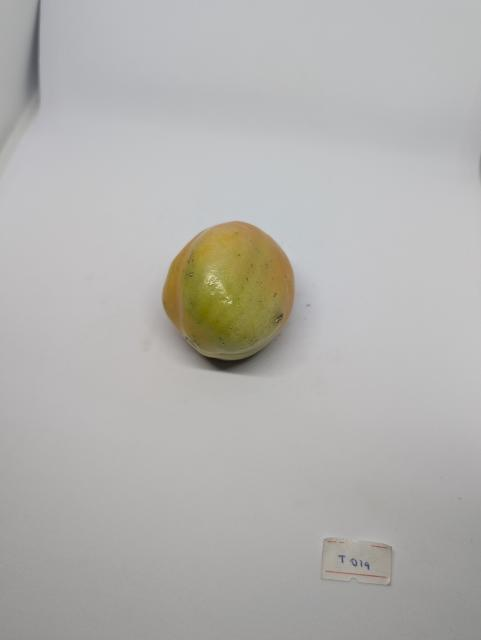breaker: (163, 222, 295, 360)
